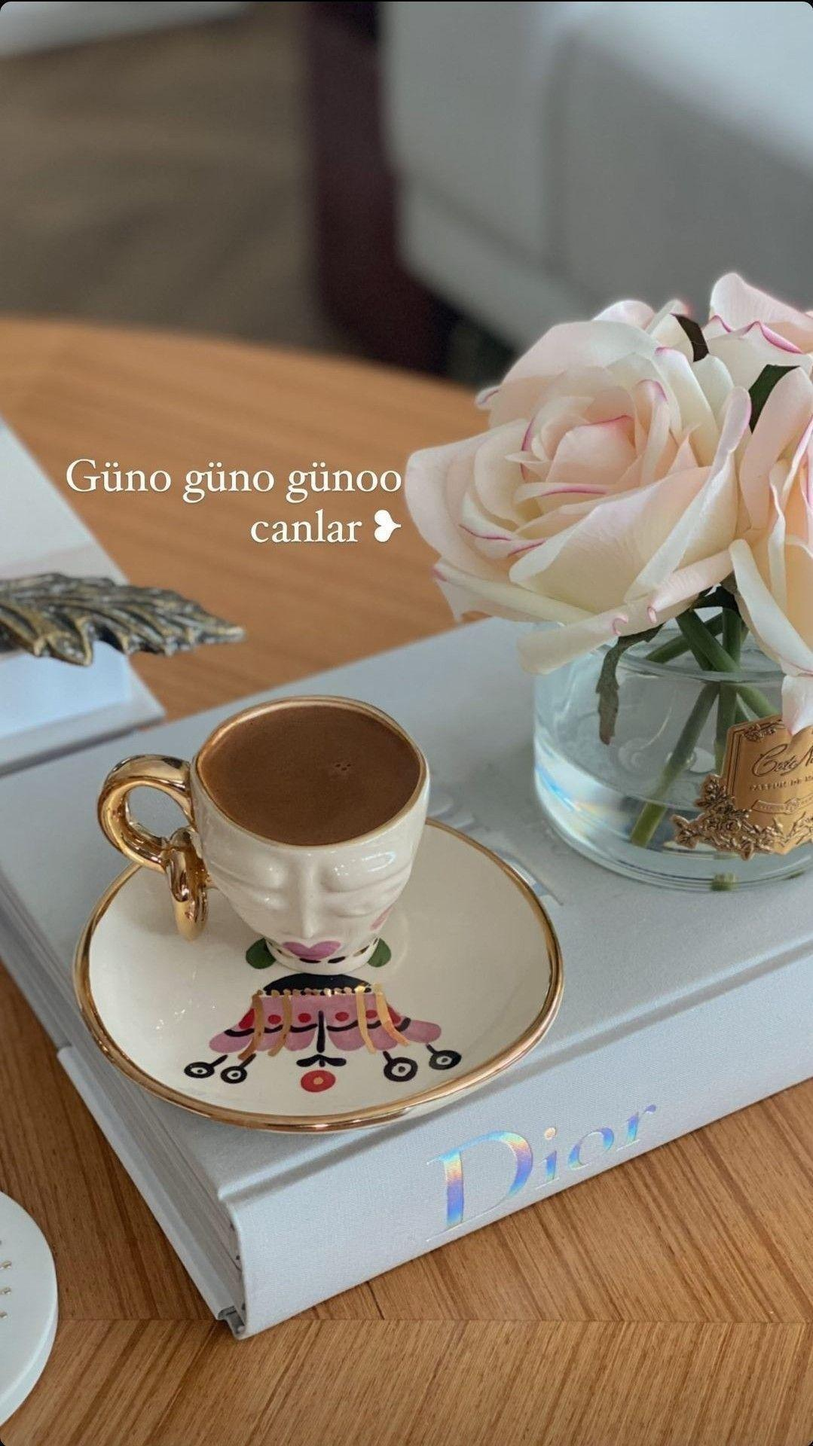cup-handle: (96, 693, 431, 977)
